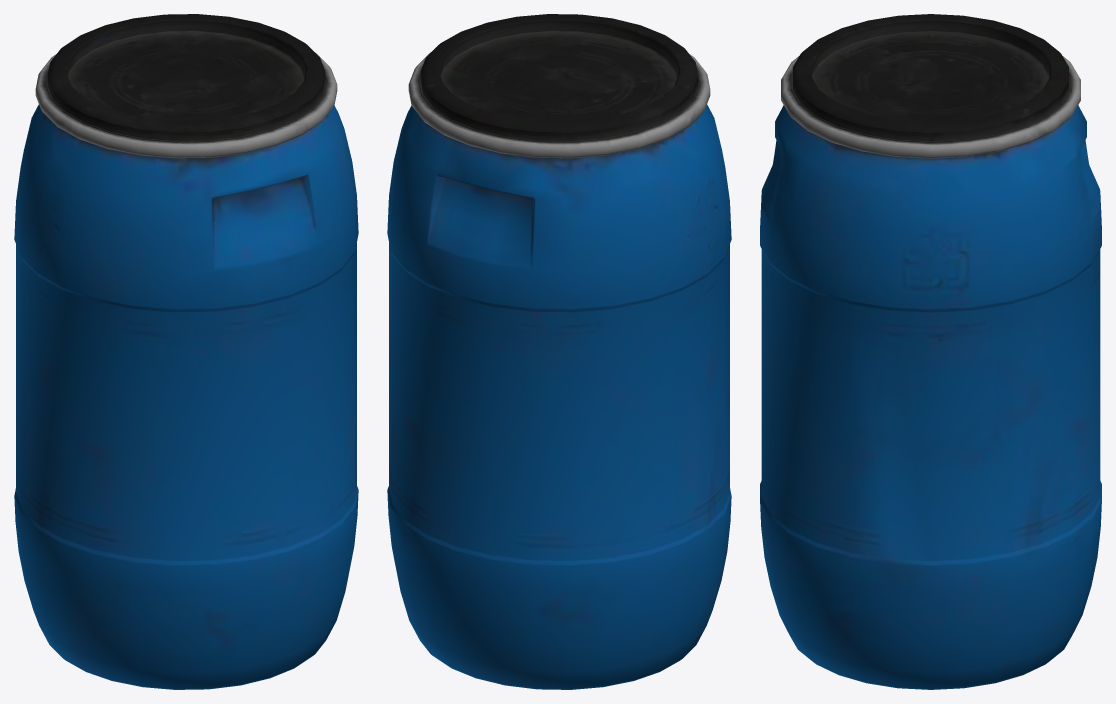
The model's file is Barrel_02.glb.
3 views of the same model, side by side, from view 1: azimuth 30°, elevation 25°; view 2: azimuth 150°, elevation 25°; view 3: azimuth 270°, elevation 25° (orthographic).
Parts seen in each view (by area): view 1: Barrel_02; view 2: Barrel_02; view 3: Barrel_02.
Boxes of the visible parts, box(x1,y1,x2,y2) form: Barrel_02: box(14, 14, 358, 689); Barrel_02: box(387, 14, 731, 689); Barrel_02: box(760, 14, 1101, 689).
Bounding box in the file's own units: 0.4882 × 0.88 × 0.4846.
Materials: 1 (1 with a texture image).
